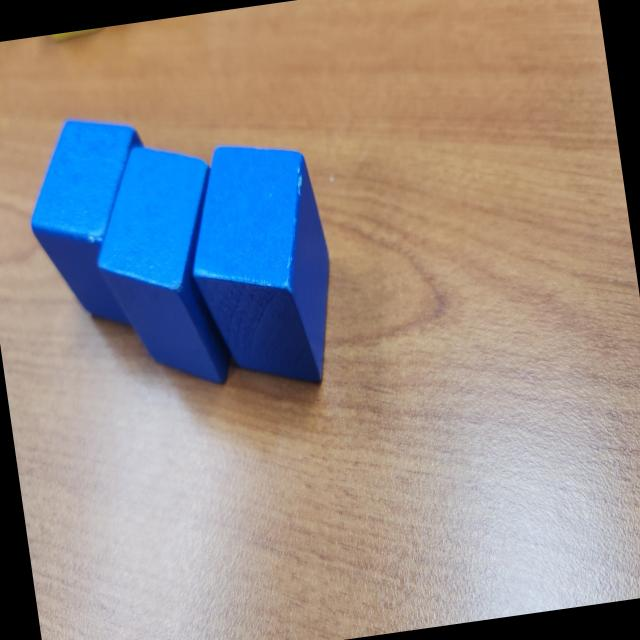blue: (175, 133, 348, 402), (80, 137, 242, 402), (16, 108, 170, 344)
